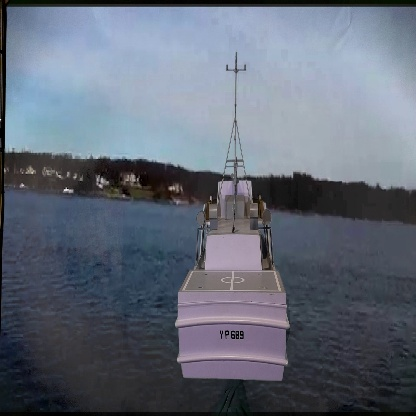YP689: (175, 52, 291, 382)
